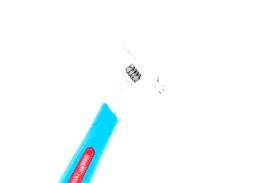wrench: (10, 66, 265, 114)
